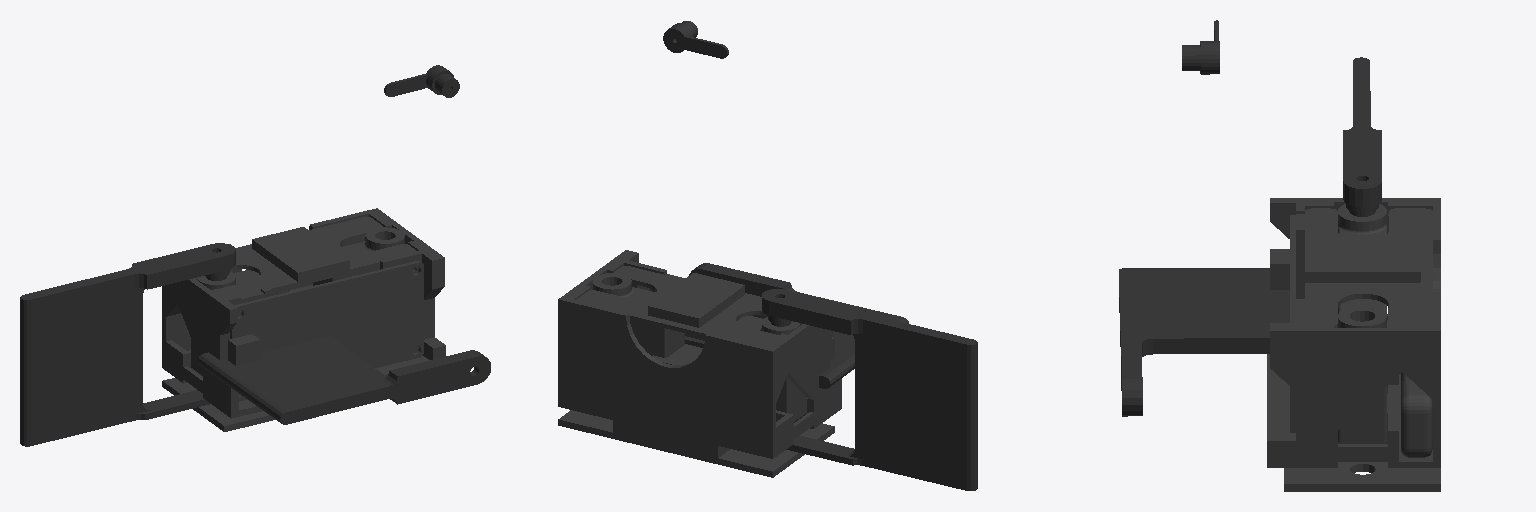
The robot description file, URDF, robot "Smarticle_URDF":
<?xml version="1.0" encoding="utf-8"?>
<!-- This URDF was automatically created by SolidWorks to URDF Exporter! Originally created by [author] ([email redacted]) 
     Commit Version: 1.5.1-0-g916b5db  Build Version: 1.5.7152.31018
     For more information, please see http://wiki.ros.org/sw_urdf_exporter -->
<robot
  name="Smarticle_URDF">
  <link
    name="base_link">
    <inertial>
      <origin
        xyz="0.0201453224666452 -0.0448658716611588 0.0388377863587419"
        rpy="0 0 0" />
      <mass
        value="0.0269834813442291" />
      <inertia
        ixx="2.59039726522864E-06"
        ixy="3.70527539262375E-09"
        ixz="-2.11824533769868E-08"
        iyy="6.03159376226408E-06"
        iyz="-9.87673076363991E-08"
        izz="5.92223995570276E-06" />
    </inertial>
    <visual>
      <origin
        xyz="0 0 0"
        rpy="0 0 0" />
      <geometry>
        <mesh
          filename="package://Smarticle_URDF/meshes/base_link.STL" />
      </geometry>
      <material
        name="">
        <color
          rgba="0.298039215686275 0.298039215686275 0.298039215686275 1" />
      </material>
    </visual>
    <collision>
      <origin
        xyz="0 0 0"
        rpy="0 0 0" />
      <geometry>
        <mesh
          filename="package://Smarticle_URDF/meshes/base_link.STL" />
      </geometry>
    </collision>
  </link>
  <link
    name="right_arm">
    <inertial>
      <origin
        xyz="0.0285759578393724 -1.97634308540112E-06 -0.020625500679824"
        rpy="0 0 0" />
      <mass
        value="0.00390817547516661" />
      <inertia
        ixx="4.94502559652727E-07"
        ixy="5.25259688971173E-23"
        ixz="-7.58600501805202E-08"
        iyy="1.0975431871728E-06"
        iyz="4.54949336904165E-24"
        izz="6.12705540710704E-07" />
    </inertial>
    <visual>
      <origin
        xyz="0 0 0"
        rpy="0 0 0" />
      <geometry>
        <mesh
          filename="package://Smarticle_URDF/meshes/right_arm.STL" />
      </geometry>
      <material
        name="">
        <color
          rgba="0.250980392156863 0.250980392156863 0.250980392156863 1" />
      </material>
    </visual>
    <collision>
      <origin
        xyz="0 0 0"
        rpy="0 0 0" />
      <geometry>
        <mesh
          filename="package://Smarticle_URDF/meshes/right_arm.STL" />
      </geometry>
    </collision>
  </link>
  <joint
    name="right_servo"
    type="continuous">
    <origin
      xyz="-0.0017576 -0.044679 0.025242"
      rpy="-3.1416 0 -3.1366" />
    <parent
      link="base_link" />
    <child
      link="right_arm" />
    <axis
      xyz="0 0 1" />
    <limit
      lower="-3.15"
      upper="3.15"
      effort="0.039"
      velocity="6.283" />
  </joint>
  <link
    name="left_arm">
    <inertial>
      <origin
        xyz="0.0285759132134806 2.02042070958364E-06 -0.0206255006798241"
        rpy="0 0 0" />
      <mass
        value="0.00390817547516661" />
      <inertia
        ixx="4.94502559652728E-07"
        ixy="1.62127400060393E-22"
        ixz="-7.58600501805201E-08"
        iyy="1.0975431871728E-06"
        iyz="2.99852972050473E-23"
        izz="6.12705540710703E-07" />
    </inertial>
    <visual>
      <origin
        xyz="0 0 0"
        rpy="0 0 0" />
      <geometry>
        <mesh
          filename="package://Smarticle_URDF/meshes/left_arm.STL" />
      </geometry>
      <material
        name="">
        <color
          rgba="0.250980392156863 0.250980392156863 0.250980392156863 1" />
      </material>
    </visual>
    <collision>
      <origin
        xyz="0 0 0"
        rpy="0 0 0" />
      <geometry>
        <mesh
          filename="package://Smarticle_URDF/meshes/left_arm.STL" />
      </geometry>
    </collision>
  </link>
  <joint
    name="left_servo"
    type="continuous">
    <origin
      xyz="0.040642 -0.044679 0.025242"
      rpy="3.1416 0 0.017339" />
    <parent
      link="base_link" />
    <child
      link="left_arm" />
    <axis
      xyz="0 0 1" />
    <limit
      lower="-3.15"
      upper="3.15"
      effort="0.039"
      velocity="6.283" />
  </joint>
</robot>

--- Facts derived from the render (not from the file) ---
3 views of the same robot in one strip: view 1: azimuth 30°, elevation 25°; view 2: azimuth 150°, elevation 25°; view 3: azimuth 270°, elevation 25° (orthographic).
Model Smarticle_URDF with 3 links and 2 joints (2 continuous), rooted at base_link, posed every joint at zero.
Visible links, largest first — view 1: base_link, right_arm, left_arm; view 2: base_link, right_arm, left_arm; view 3: base_link, left_arm, right_arm.
Link boxes in pixels (box(x1,y1,x2,y2)): base_link: box(162, 208, 445, 431); right_arm: box(20, 243, 235, 446); left_arm: box(198, 65, 490, 424); base_link: box(558, 250, 841, 477); right_arm: box(762, 289, 977, 490); left_arm: box(663, 21, 908, 388); base_link: box(1267, 198, 1440, 491); left_arm: box(1119, 20, 1289, 416); right_arm: box(1343, 57, 1381, 216).
Size in the robot's own frame: 0.0973 by 0.0554 by 0.0817 metres.
Meshes: 3 distinct files referenced, 3 mesh visuals loaded (3 binary STL).